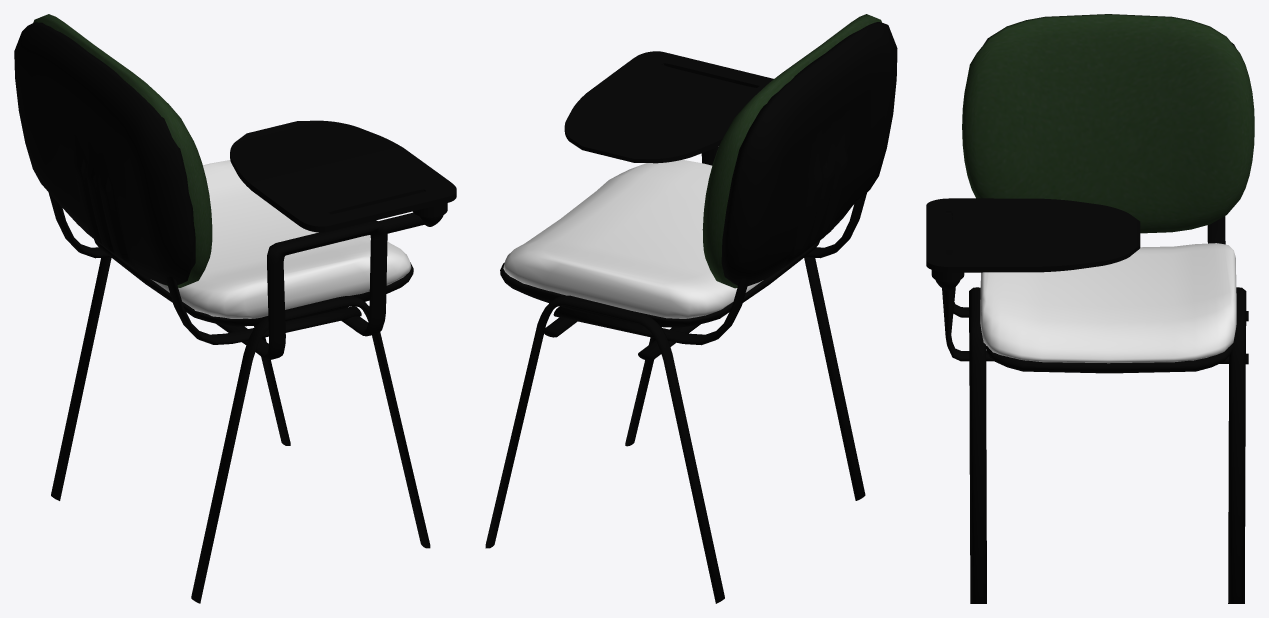
Rendered from chair_fixed.fbx.
The picture shows the model from 3 angles, left to right: view 1: azimuth 30°, elevation 25°; view 2: azimuth 150°, elevation 25°; view 3: azimuth 270°, elevation 25°; orthographic projection. The views are drawn at different scales.
Visible parts, largest first — view 1: zaplecnik, stolik, pufka, Nogi, utrzymywacz zaplecnika.001, Naplecnik, utrzymywacz zaplecnika, podpufka, Cylinder; view 2: zaplecnik, pufka, stolik, Nogi, Naplecnik, utrzymywacz zaplecnika, podpufka, utrzymywacz zaplecnika.001; view 3: Naplecnik, pufka, stolik, Nogi, podpufka, utrzymywacz zaplecnika.001, Cylinder, utrzymywacz zaplecnika.
Part boxes in pixels (x1=…): zaplecnik: x1=14, y1=22, x2=195, y2=285; stolik: x1=230, y1=120, x2=456, y2=232; pufka: x1=151, y1=160, x2=411, y2=318; Nogi: x1=51, y1=257, x2=430, y2=603; utrzymywacz zaplecnika.001: x1=216, y1=220, x2=387, y2=359; Naplecnik: x1=33, y1=14, x2=212, y2=287; utrzymywacz zaplecnika: x1=48, y1=192, x2=361, y2=344; podpufka: x1=94, y1=239, x2=413, y2=326; Cylinder: x1=379, y1=203, x2=447, y2=233; zaplecnik: x1=721, y1=22, x2=897, y2=285; pufka: x1=503, y1=159, x2=763, y2=318; stolik: x1=564, y1=51, x2=773, y2=163; Nogi: x1=485, y1=257, x2=865, y2=603; Naplecnik: x1=702, y1=14, x2=881, y2=288; utrzymywacz zaplecnika: x1=553, y1=193, x2=866, y2=345; podpufka: x1=500, y1=241, x2=819, y2=327; utrzymywacz zaplecnika.001: x1=542, y1=146, x2=718, y2=360; Naplecnik: x1=962, y1=14, x2=1254, y2=233; pufka: x1=980, y1=243, x2=1236, y2=363; stolik: x1=926, y1=198, x2=1140, y2=272; Nogi: x1=969, y1=287, x2=1246, y2=603; podpufka: x1=986, y1=344, x2=1232, y2=373; utrzymywacz zaplecnika.001: x1=942, y1=287, x2=1248, y2=364; Cylinder: x1=931, y1=270, x2=964, y2=290; utrzymywacz zaplecnika: x1=989, y1=216, x2=1225, y2=357.
Size of the model in its own units: 514 by 867 by 546.
